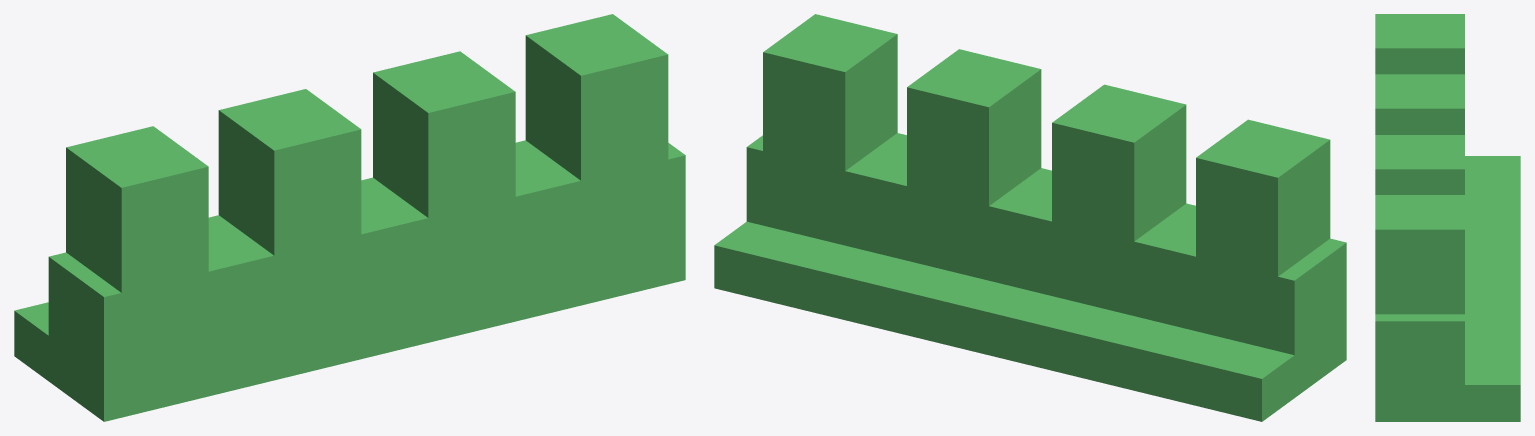
File: parapet_crenellated_4m_collision.glb
3 views of the same model, side by side, from view 1: azimuth 30°, elevation 25°; view 2: azimuth 150°, elevation 25°; view 3: azimuth 270°, elevation 25° (orthographic). The views are drawn at different scales.
Parts seen in each view (by area): view 1: parapet_crenellated_4m_base-col, parapet_crenellated_4m_merlon_1-col, parapet_crenellated_4m_merlon_0-col, parapet_crenellated_4m_merlon_3-col, parapet_crenellated_4m_merlon_2-col, parapet_crenellated_4m_step-col; view 2: parapet_crenellated_4m_base-col, parapet_crenellated_4m_step-col, parapet_crenellated_4m_merlon_1-col, parapet_crenellated_4m_merlon_3-col, parapet_crenellated_4m_merlon_0-col, parapet_crenellated_4m_merlon_2-col; view 3: parapet_crenellated_4m_step-col, parapet_crenellated_4m_merlon_3-col, parapet_crenellated_4m_base-col, parapet_crenellated_4m_merlon_0-col, parapet_crenellated_4m_merlon_1-col, parapet_crenellated_4m_merlon_2-col.
Boxes of the visible parts, x1=… form: parapet_crenellated_4m_base-col: x1=48, y1=140, x2=685, y2=421; parapet_crenellated_4m_merlon_1-col: x1=218, y1=89, x2=361, y2=259; parapet_crenellated_4m_merlon_0-col: x1=66, y1=126, x2=208, y2=296; parapet_crenellated_4m_merlon_3-col: x1=525, y1=14, x2=668, y2=180; parapet_crenellated_4m_merlon_2-col: x1=373, y1=51, x2=515, y2=217; parapet_crenellated_4m_step-col: x1=14, y1=302, x2=54, y2=384; parapet_crenellated_4m_base-col: x1=746, y1=133, x2=1346, y2=393; parapet_crenellated_4m_step-col: x1=714, y1=221, x2=1299, y2=421; parapet_crenellated_4m_merlon_1-col: x1=1052, y1=84, x2=1186, y2=245; parapet_crenellated_4m_merlon_3-col: x1=763, y1=14, x2=897, y2=174; parapet_crenellated_4m_merlon_0-col: x1=1196, y1=119, x2=1330, y2=280; parapet_crenellated_4m_merlon_2-col: x1=907, y1=49, x2=1041, y2=210; parapet_crenellated_4m_step-col: x1=1455, y1=156, x2=1520, y2=421; parapet_crenellated_4m_merlon_3-col: x1=1375, y1=195, x2=1464, y2=314; parapet_crenellated_4m_base-col: x1=1375, y1=314, x2=1464, y2=421; parapet_crenellated_4m_merlon_0-col: x1=1375, y1=14, x2=1464, y2=74; parapet_crenellated_4m_merlon_1-col: x1=1375, y1=74, x2=1464, y2=134; parapet_crenellated_4m_merlon_2-col: x1=1375, y1=135, x2=1464, y2=194.
Size of the model in its own units: 4 by 1.51 by 1.07.
